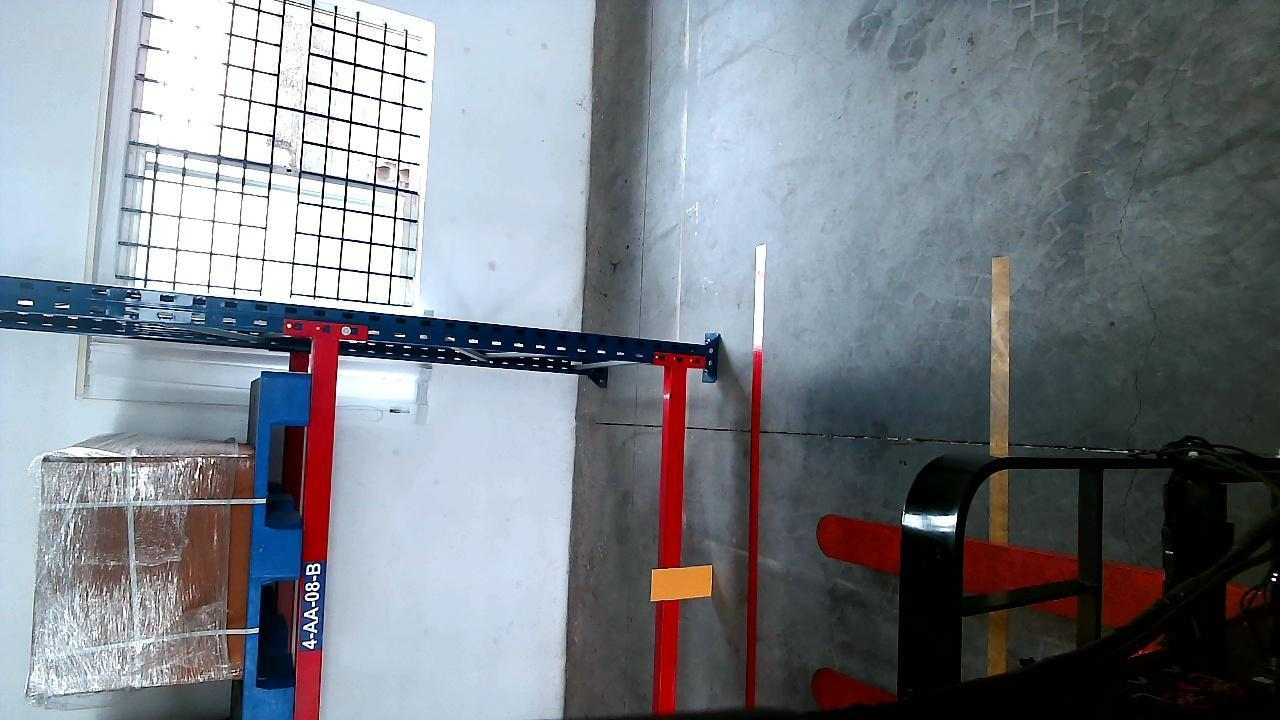h_rack: (297, 340, 342, 720), (660, 356, 689, 716)
orange_strip: (653, 566, 714, 599)
red_line: (743, 271, 765, 716)
small_pallet: (243, 366, 310, 720)
yellow_line: (988, 252, 1010, 512)
